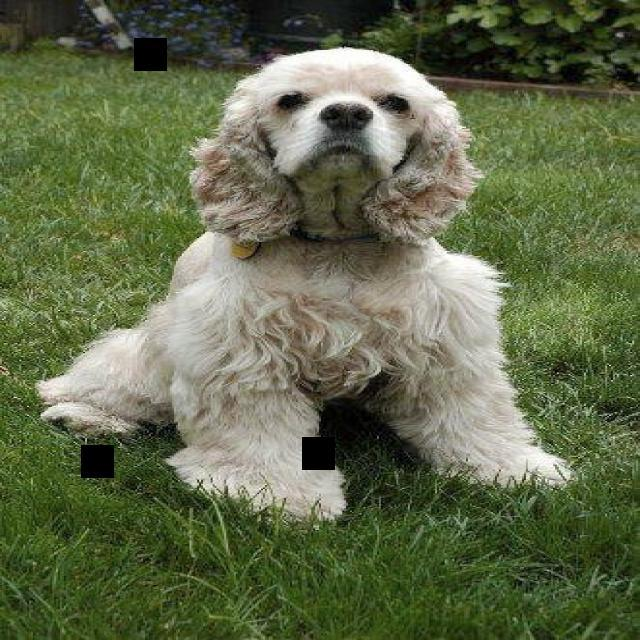adult_dog: (24, 48, 578, 527)
